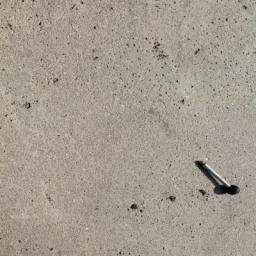FOD: (194, 158, 242, 197)
